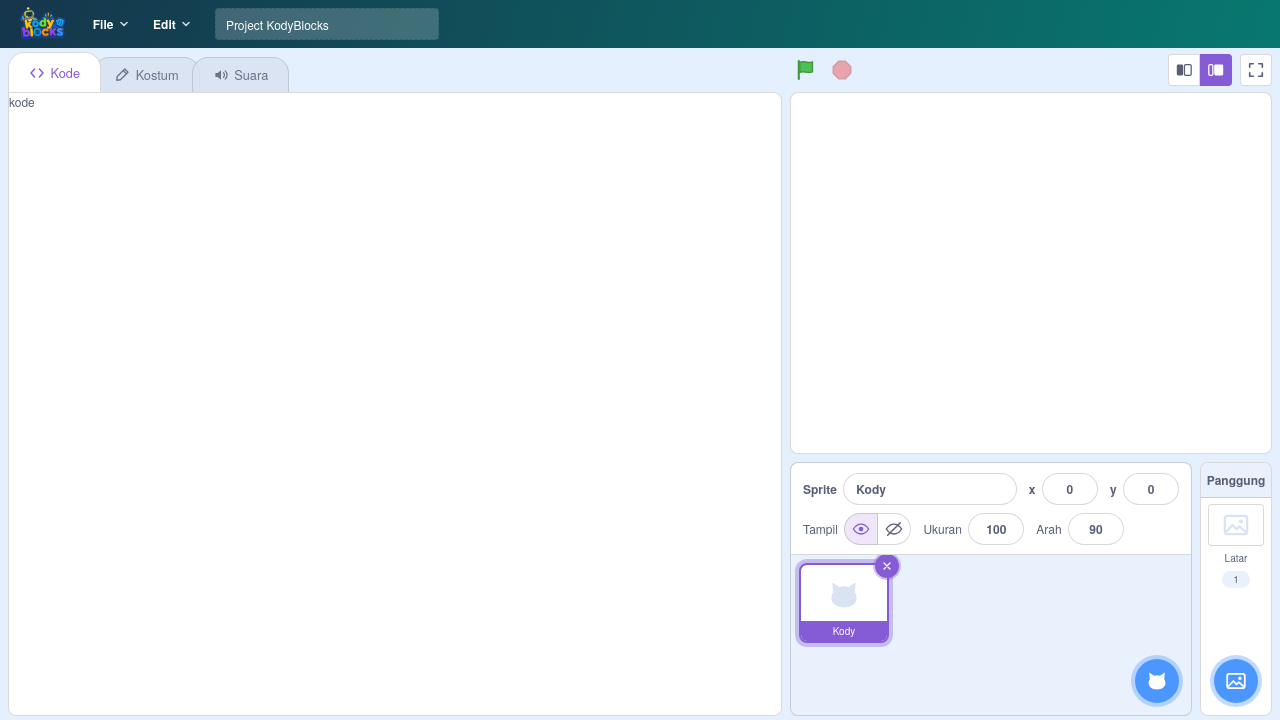
Scenario: KodyShell › tab berpindah dan memancarkan event; label Latar untuk stage
Click the tab "Suara" at (240, 74), box [192,57,289,92]
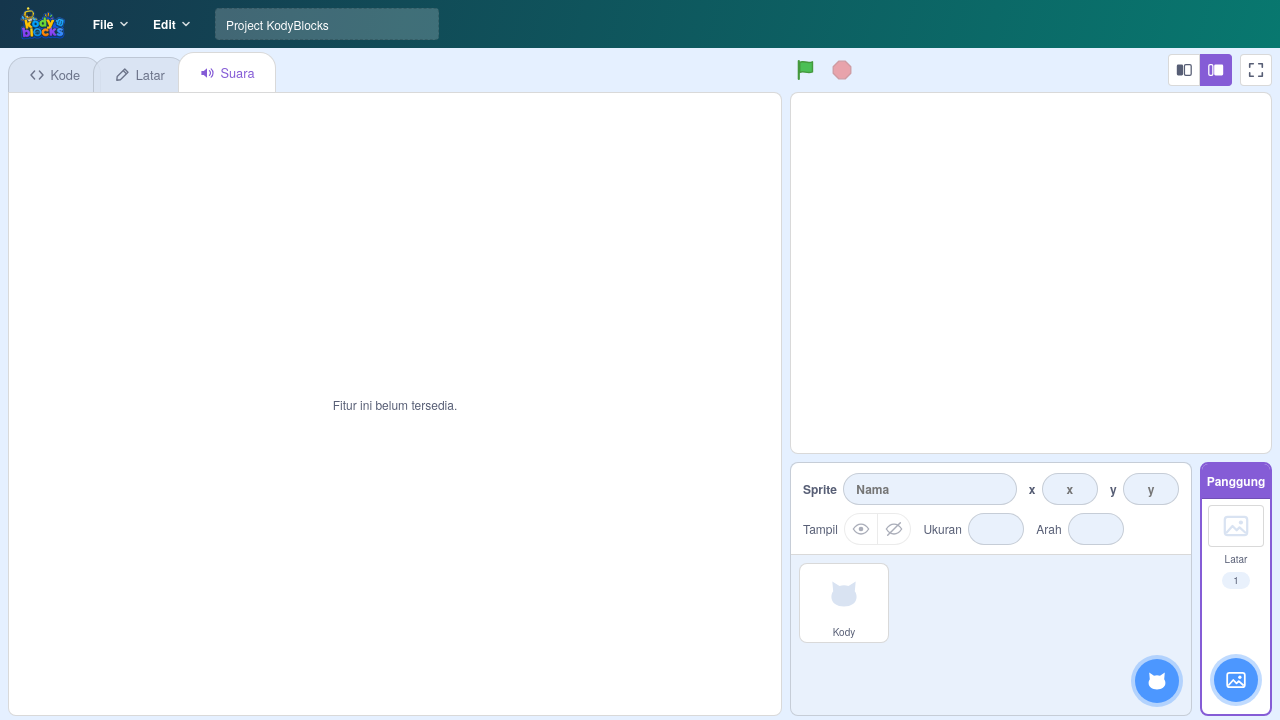
Expected: the tab "Suara" is shown, [178,52,276,92]
Expected: the tab "Latar" is shown, [93,57,186,92]
